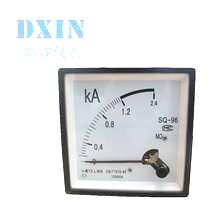pointer: (64, 70, 185, 191)
